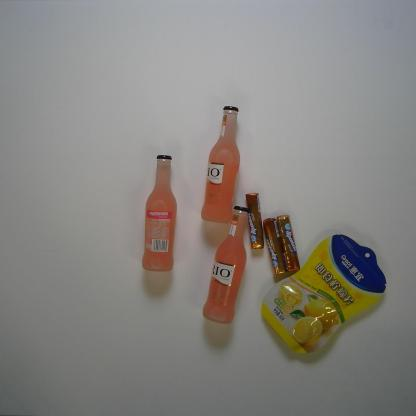Alcohol: (202, 204, 250, 326), (199, 105, 242, 224), (140, 154, 178, 273)
Candy: (262, 217, 286, 276), (276, 214, 300, 272), (245, 192, 265, 250)
Dried Fruit: (260, 233, 388, 355)
